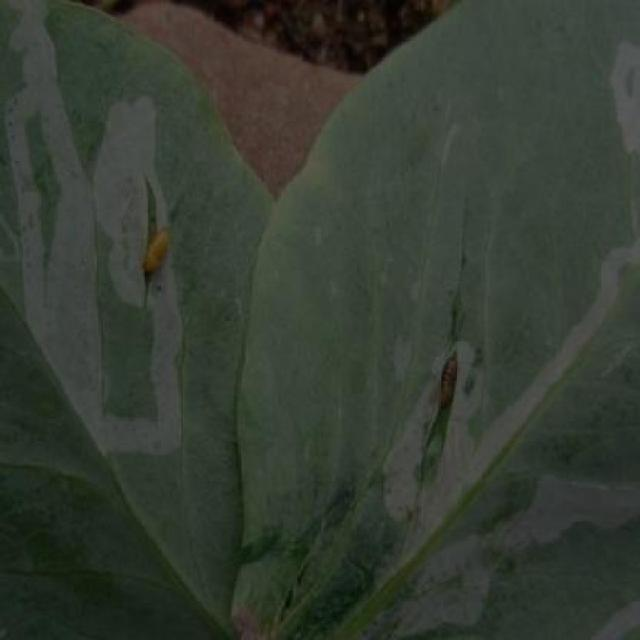whorl-maggot: (430, 345, 468, 423), (139, 213, 173, 289)
